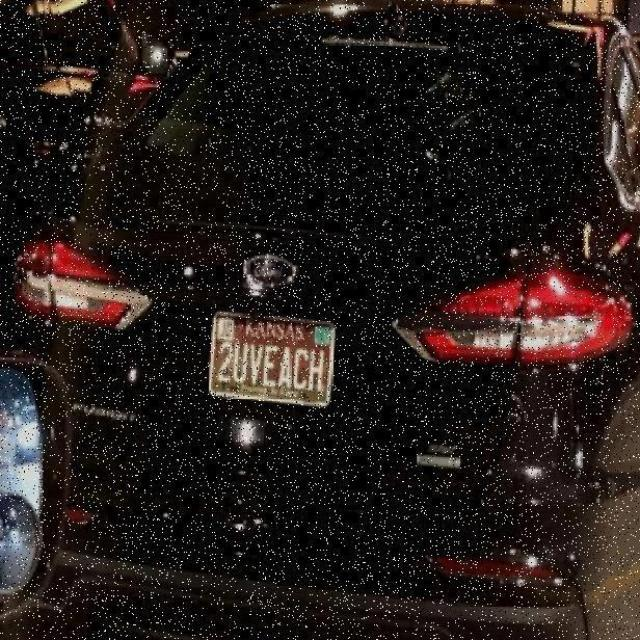license-plate: (187, 297, 348, 423)
